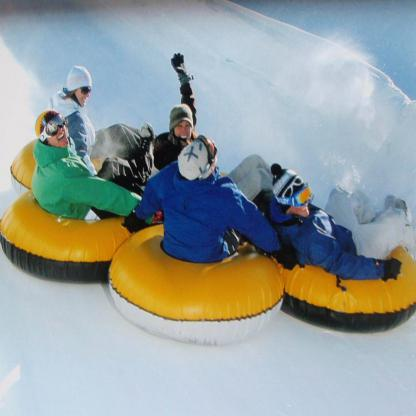face: (200, 135, 219, 173), (47, 117, 70, 148), (174, 120, 193, 147), (291, 192, 310, 218), (76, 83, 92, 107)
